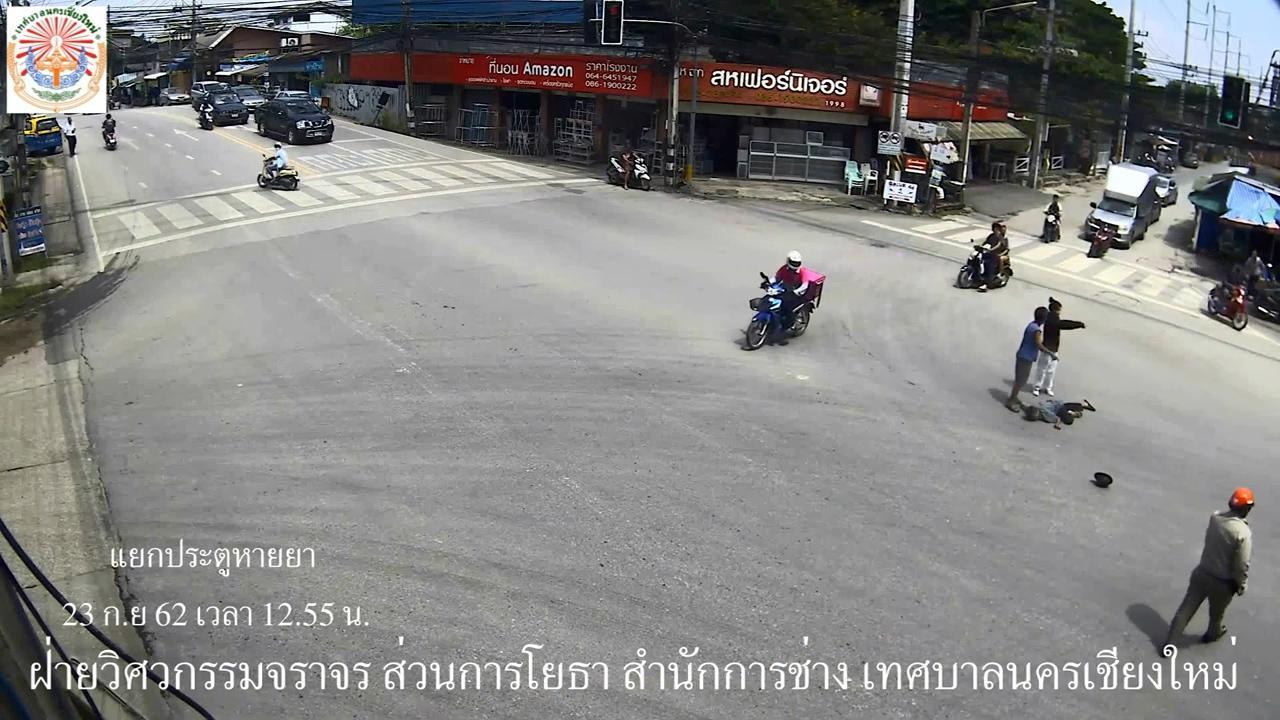accident: (1022, 397, 1098, 433)
